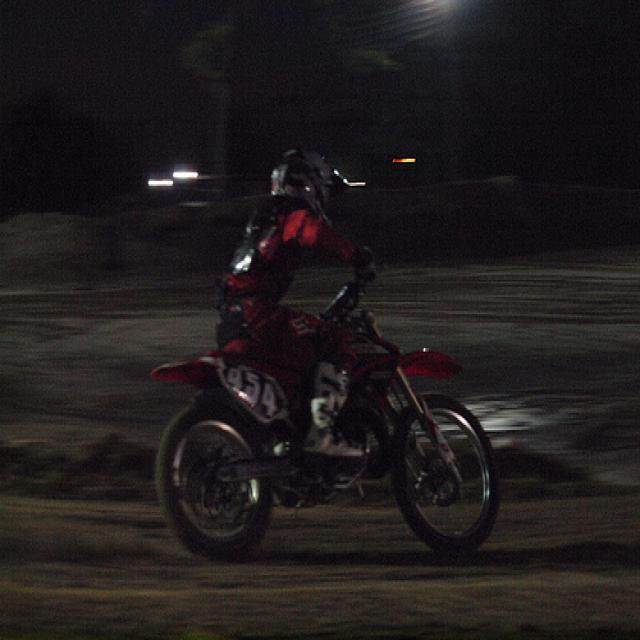Motorbike: (138, 277, 535, 604)
People: (217, 121, 350, 350)
